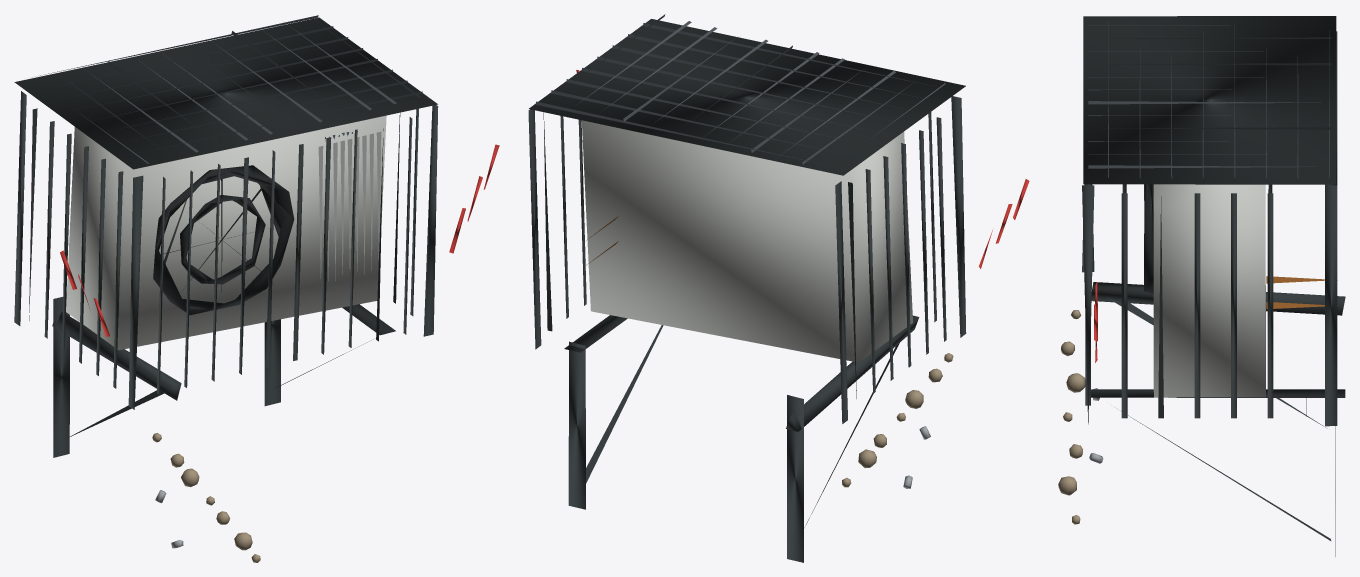
Rendered from may_lanh_rung.glb.
3 renders of one model, left to right at view 1: azimuth 30°, elevation 25°; view 2: azimuth 150°, elevation 25°; view 3: azimuth 270°, elevation 25°, orthographic. The views are drawn at different scales.
Visible parts, largest first — view 1: w_long_sat_rung, w_cuc_nong_rung, w_pat_rung, w_rung_rung; view 2: w_cuc_nong_rung, w_long_sat_rung, w_pat_rung, w_rung_rung; view 3: w_long_sat_rung, w_cuc_nong_rung, w_pat_rung, w_rung_rung.
Part boxes in pixels (x1,y1,x2,y2): w_long_sat_rung: [14, 15, 438, 409]; w_cuc_nong_rung: [66, 115, 386, 350]; w_pat_rung: [52, 296, 395, 457]; w_rung_rung: [60, 144, 499, 562]; w_cuc_nong_rung: [581, 120, 912, 362]; w_long_sat_rung: [528, 14, 966, 423]; w_pat_rung: [564, 315, 919, 562]; w_rung_rung: [576, 70, 1029, 488]; w_long_sat_rung: [1082, 16, 1337, 426]; w_cuc_nong_rung: [1144, 184, 1337, 397]; w_pat_rung: [1091, 282, 1345, 556]; w_rung_rung: [1058, 282, 1103, 524].
Bounding box in the file's own units: 1.33 × 1.23 × 0.7098.
